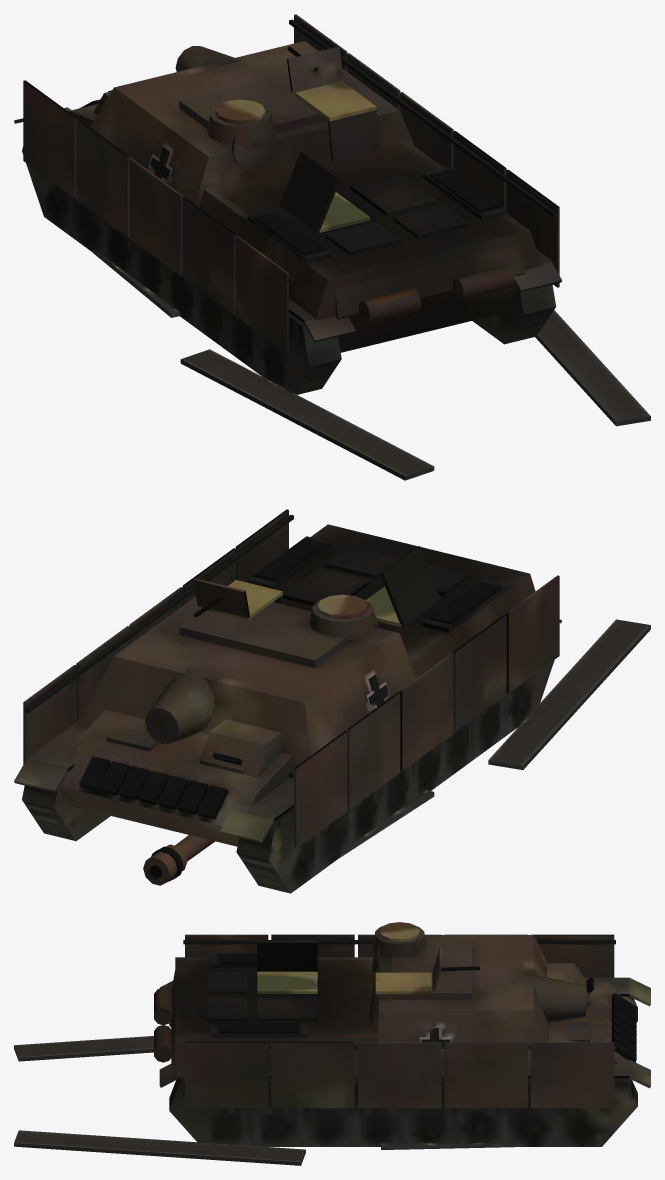
The model's file is stug4.glb.
3 renders of one model, top to bottom at view 1: azimuth 30°, elevation 25°; view 2: azimuth 150°, elevation 25°; view 3: azimuth 270°, elevation 25°, orthographic. The views are drawn at different scales.
Parts seen in each view (by area): view 1: hull_ko, hull_trackL, hull_trackR, hull_ok; view 2: hull_ko, hull_trackL, hull_ok, gun_ko; view 3: hull_ko, hull_trackR, hull_ok, hull_trackL.
Boxes of the visible parts, box(x1,y1,x2,y2) form: hull_ko: box(14, 14, 561, 394); hull_trackL: box(93, 248, 434, 480); hull_trackR: box(535, 310, 650, 426); hull_ok: box(215, 81, 376, 232); hull_ko: box(14, 509, 561, 893); hull_trackL: box(340, 619, 650, 857); hull_ok: box(201, 580, 401, 627); gun_ko: box(143, 835, 214, 885); hull_ko: box(154, 926, 650, 1146); hull_trackR: box(14, 1130, 521, 1165); hull_ok: box(257, 922, 431, 994); hull_trackL: box(14, 1036, 153, 1061).
Bounding box in the file's own units: 4.02 × 2.51 × 7.95.
16 materials, 16 textured.
